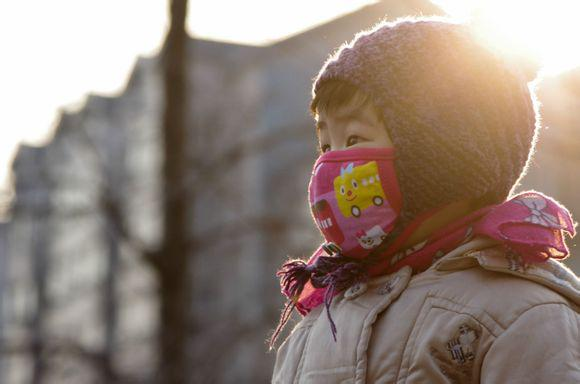OK: (312, 108, 449, 245)
